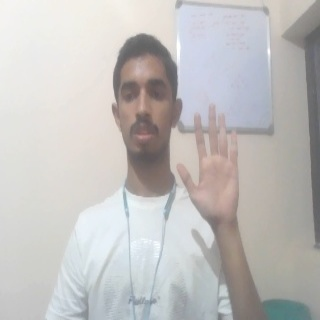Face: (108, 31, 184, 163)
Hello: (175, 103, 243, 224)
